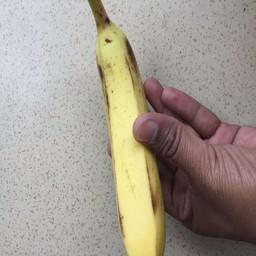Banana Ripe: (68, 0, 214, 256)
